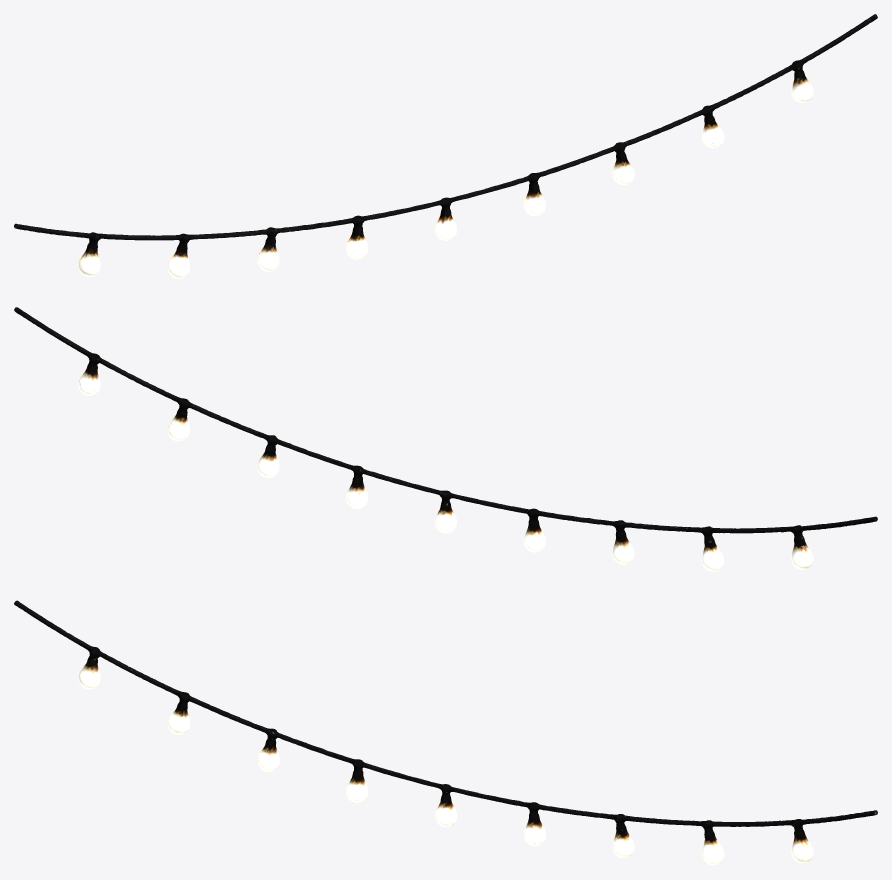
File: Meshy_AI_String_Lights_Across__0624183240_texture.fbx
3 views of the same model, one above another, from view 1: azimuth 30°, elevation 25°; view 2: azimuth 150°, elevation 25°; view 3: azimuth 330°, elevation 25° (orthographic).
Parts seen in each view (by area): view 1: Mesh_0; view 2: Mesh_0; view 3: Mesh_0.
Part boxes in pixels (x1,y1,x2,y2): Mesh_0: (14, 14, 877, 278); Mesh_0: (14, 307, 877, 571); Mesh_0: (14, 600, 877, 865).
Bounding box in the file's own units: 191 × 25.51 × 4.33.
Materials: 1 (1 with a texture image).
